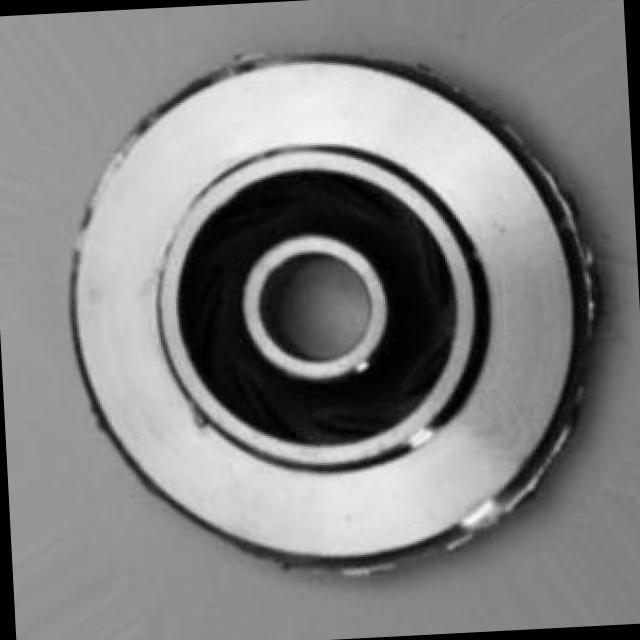Defect: (183, 399, 225, 442)
